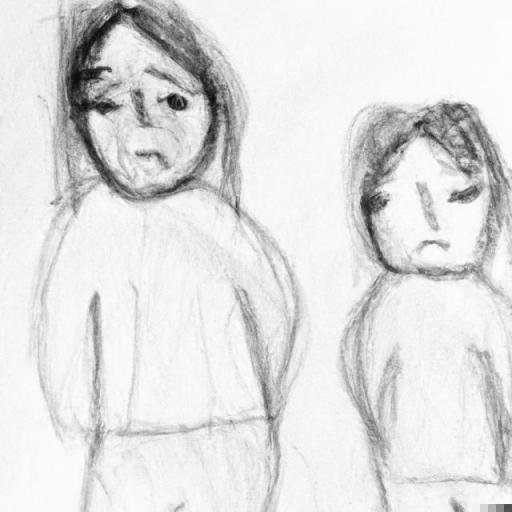person: (28, 0, 303, 509), (332, 91, 512, 511)
